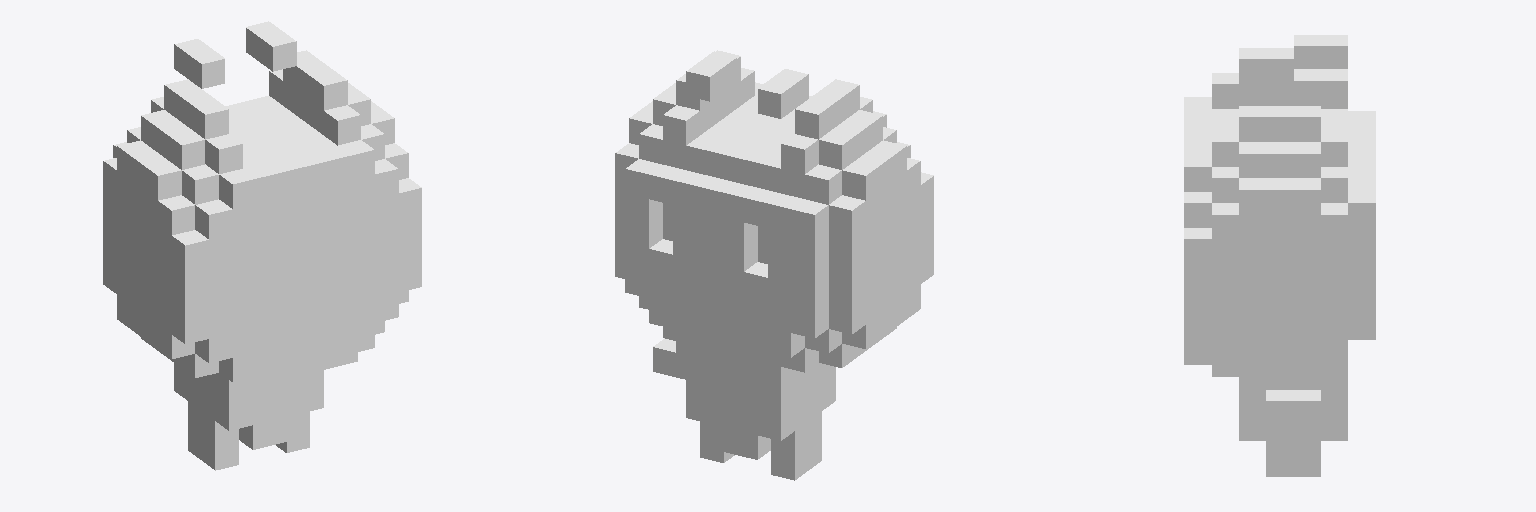
File: redimp.obj
The picture shows the model from 3 angles: view 1: azimuth 30°, elevation 25°; view 2: azimuth 150°, elevation 25°; view 3: azimuth 270°, elevation 25°; orthographic projection.
Visible parts, largest first — view 1: object 1; view 2: object 1; view 3: object 1.
Boxes of the visible parts, box(x1,y1,x2,y2) form: object 1: box(103, 21, 421, 470); object 1: box(615, 50, 933, 480); object 1: box(1184, 35, 1375, 476).
Bounding box in the file's own units: 1 × 1.6 × 0.7.